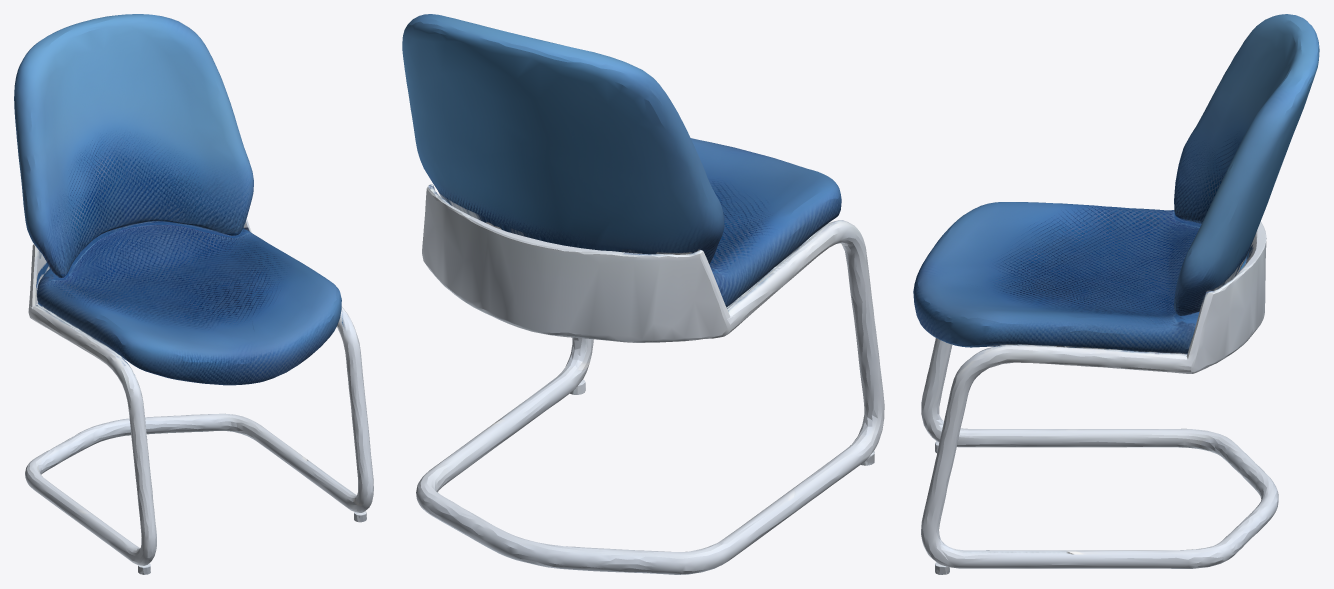
The model's file is AIイス.glb.
3 views of the same model, side by side, from view 1: azimuth 30°, elevation 25°; view 2: azimuth 150°, elevation 25°; view 3: azimuth 270°, elevation 25° (orthographic). The views are drawn at different scales.
Parts seen in each view (by area): view 1: model; view 2: model; view 3: model.
Part boxes in pixels (x1,y1,x2,y2): model: [14, 14, 373, 574]; model: [402, 14, 884, 574]; model: [913, 14, 1319, 574].
Size of the model in its own units: 1.07 by 1.81 by 1.42.
2 materials, 2 textured.
